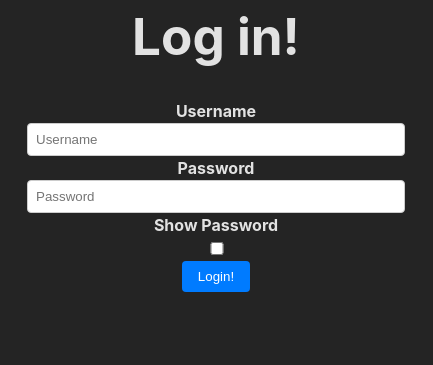
Test: LoginForm component › shows error with empty fields
The image size is (433, 365).
Click the button "Login!".
click(216, 276)  # box [182,261,250,292]
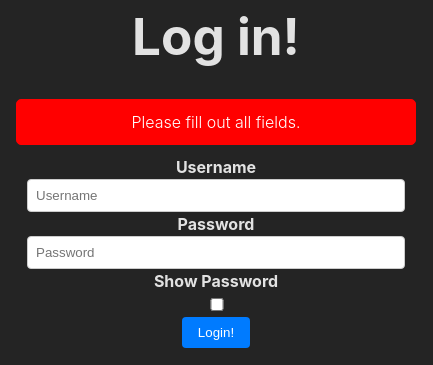
Expected: the text "Please fill out all fields." is shown, [16,99,416,145]
